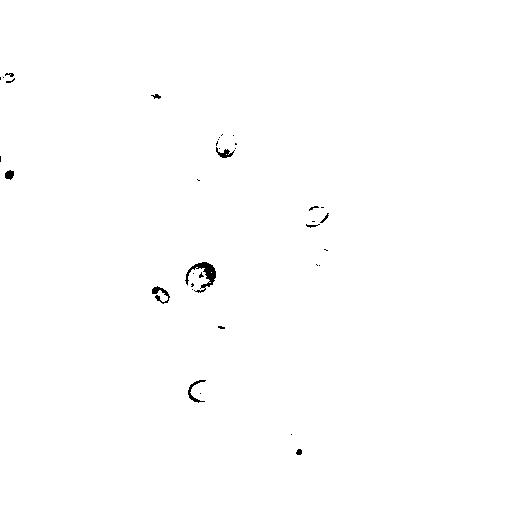micro-algae: (145, 199, 187, 247), (184, 261, 217, 294), (299, 201, 331, 230), (280, 432, 310, 459), (215, 129, 240, 160), (186, 378, 217, 403), (309, 245, 339, 269), (1, 160, 22, 192), (151, 285, 171, 305), (1, 71, 18, 85), (192, 176, 205, 190)
